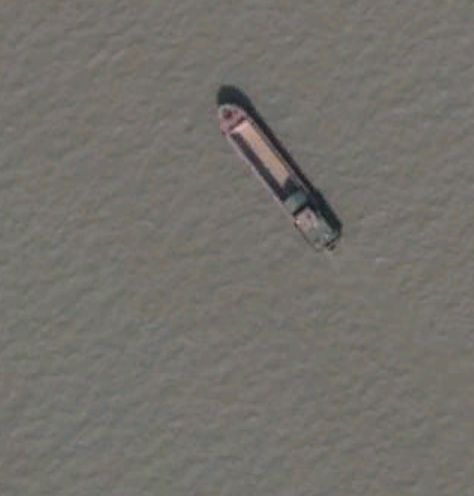boat: (216, 102, 344, 256)
